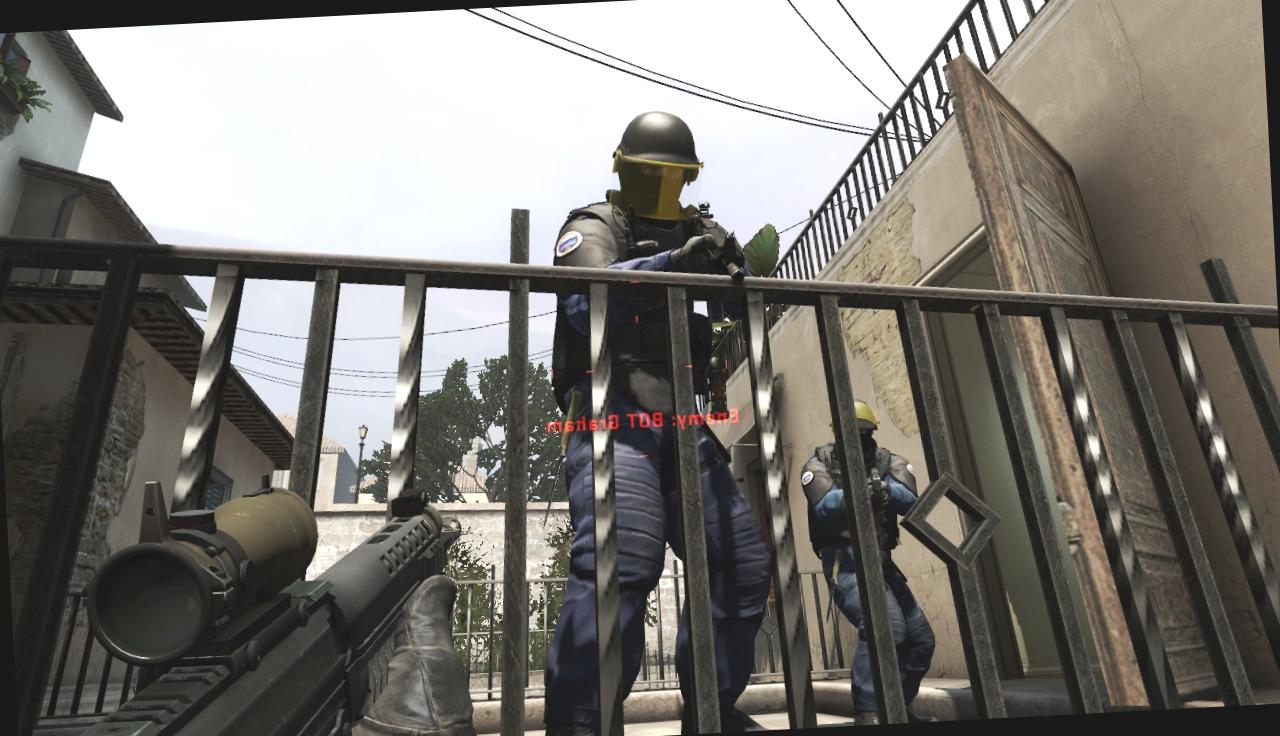ct: (532, 103, 767, 736), (813, 394, 919, 726)
cthead: (612, 108, 704, 220), (834, 397, 884, 457)
rifle: (40, 469, 481, 736)
